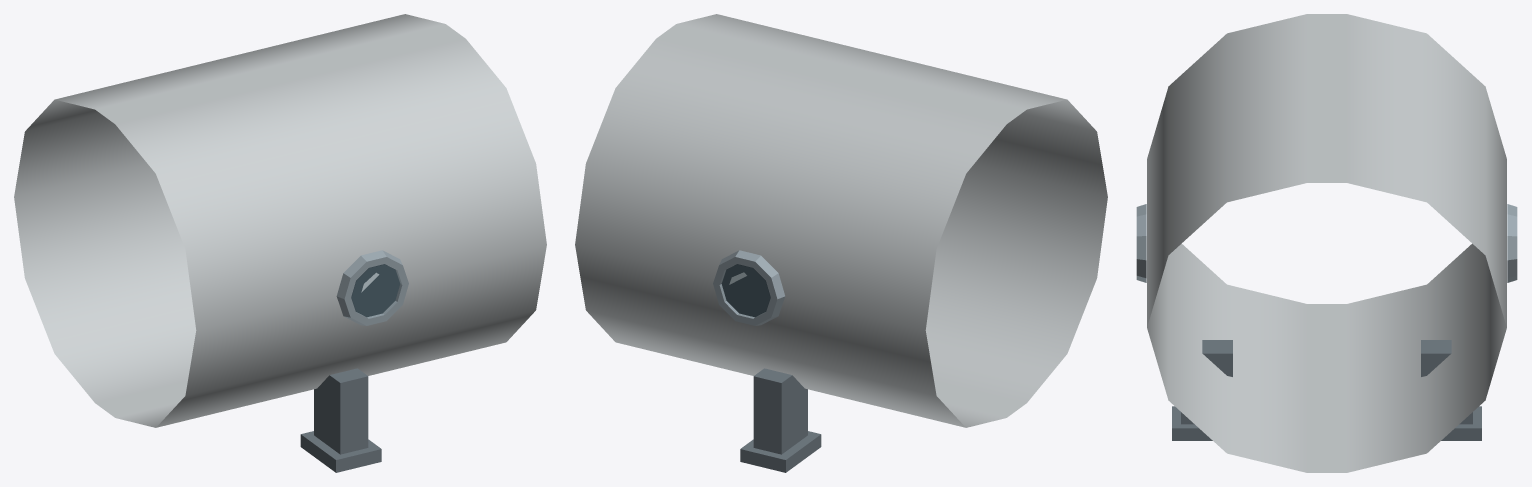
The model's file is pressure_012.glb.
3 views of the same model, side by side, from view 1: azimuth 30°, elevation 25°; view 2: azimuth 150°, elevation 25°; view 3: azimuth 270°, elevation 25° (orthographic).
Parts seen in each view (by area): view 1: Pressure_Shell.048, Support.135, Porthole_Rim.072, Gas_Window.072, Window_Glass.072, Footplate.135; view 2: Pressure_Shell.048, Support.136, Porthole_Rim.073, Gas_Window.073, Window_Glass.073, Footplate.136; view 3: Pressure_Shell.048, Support.135, Support.136, Porthole_Rim.072, Porthole_Rim.073, Footplate.135, Footplate.136.
Boxes of the visible parts, <box> form: Pressure_Shell.048: <box>14,14,546,427</box>; Support.135: <box>314,368,368,454</box>; Porthole_Rim.072: <box>336,250,408,325</box>; Gas_Window.072: <box>351,264,400,317</box>; Window_Glass.072: <box>352,265,401,317</box>; Footplate.135: <box>300,431,381,472</box>; Pressure_Shell.048: <box>575,14,1107,427</box>; Support.136: <box>753,368,807,454</box>; Porthole_Rim.073: <box>713,250,785,325</box>; Gas_Window.073: <box>721,264,770,317</box>; Window_Glass.073: <box>720,265,769,317</box>; Footplate.136: <box>740,431,821,472</box>; Pressure_Shell.048: <box>1147,14,1506,472</box>; Support.135: <box>1181,340,1232,424</box>; Support.136: <box>1421,340,1472,424</box>; Porthole_Rim.072: <box>1136,204,1146,282</box>; Porthole_Rim.073: <box>1507,204,1517,282</box>; Footplate.135: <box>1172,406,1212,440</box>; Footplate.136: <box>1441,406,1481,440</box>.
Bounding box in the file's own units: 2 × 1.83 × 1.91.
